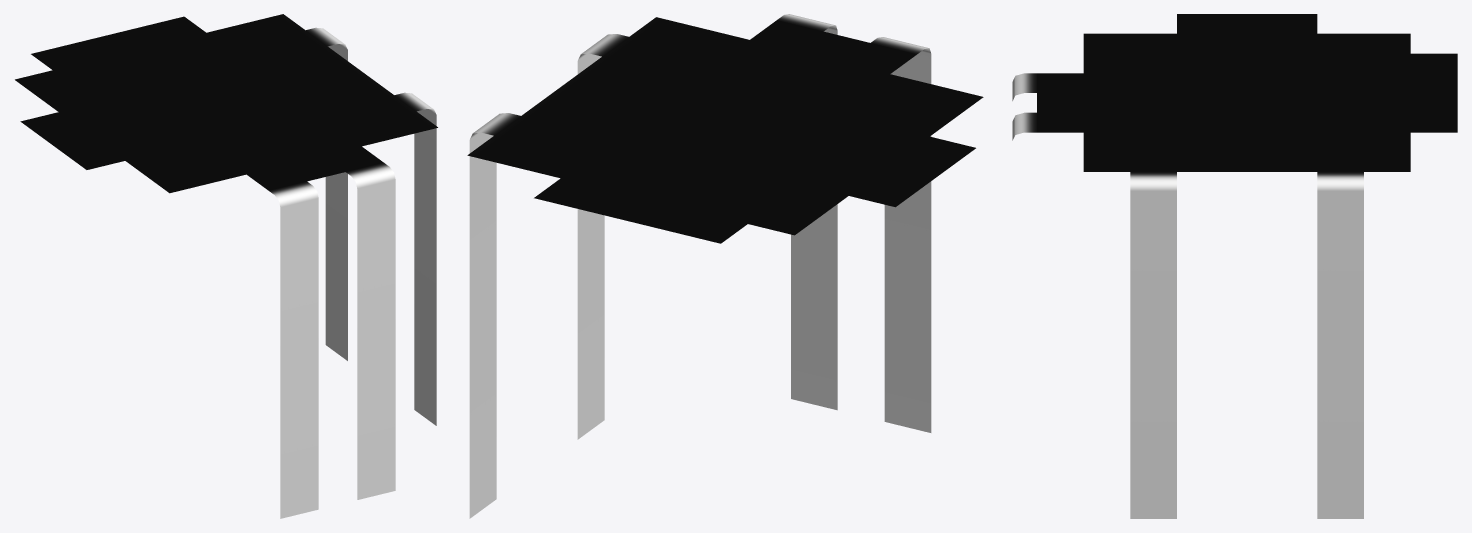
The model's file is mainRoom2_MESH.fbx.
3 views of the same model, side by side, from view 1: azimuth 30°, elevation 25°; view 2: azimuth 150°, elevation 25°; view 3: azimuth 270°, elevation 25° (orthographic). The views are drawn at different scales.
Parts seen in each view (by area): view 1: mainRoom2; view 2: mainRoom2; view 3: mainRoom2.
Part boxes in pixels (box(x1,y1,x2,y2)): mainRoom2: box(15, 14, 437, 518); mainRoom2: box(467, 14, 983, 518); mainRoom2: box(1012, 14, 1457, 518).
Size of the model in its own units: 8.52 by 7.95 by 9.52.
